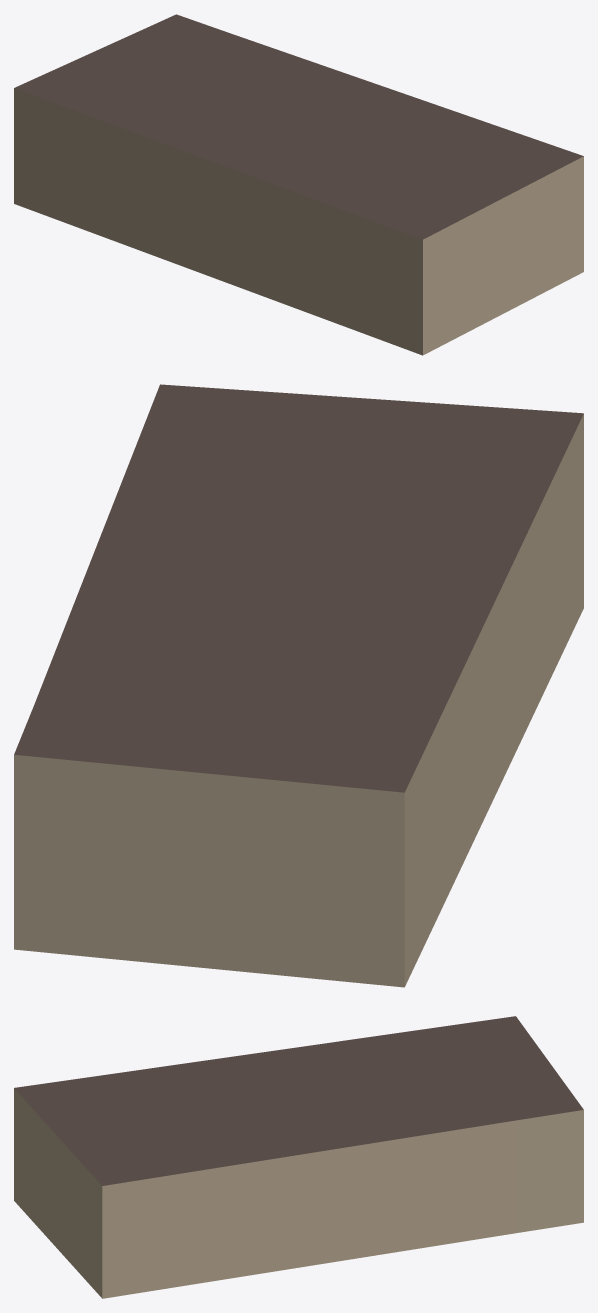
The picture shows the model from 3 angles, top to bottom: view 1: azimuth 30°, elevation 25°; view 2: azimuth 150°, elevation 25°; view 3: azimuth 270°, elevation 25°; orthographic projection. The views are drawn at different scales.
Visible parts, largest first — view 1: HP-w160894924; view 2: HP-w160894924; view 3: HP-w160894924.
Boxes of the visible parts, <box> form: HP-w160894924: <box>14,14,583,355</box>; HP-w160894924: <box>14,384,583,987</box>; HP-w160894924: <box>14,1016,583,1298</box>.
Size of the model in its own units: 29.09 by 9 by 41.22.
